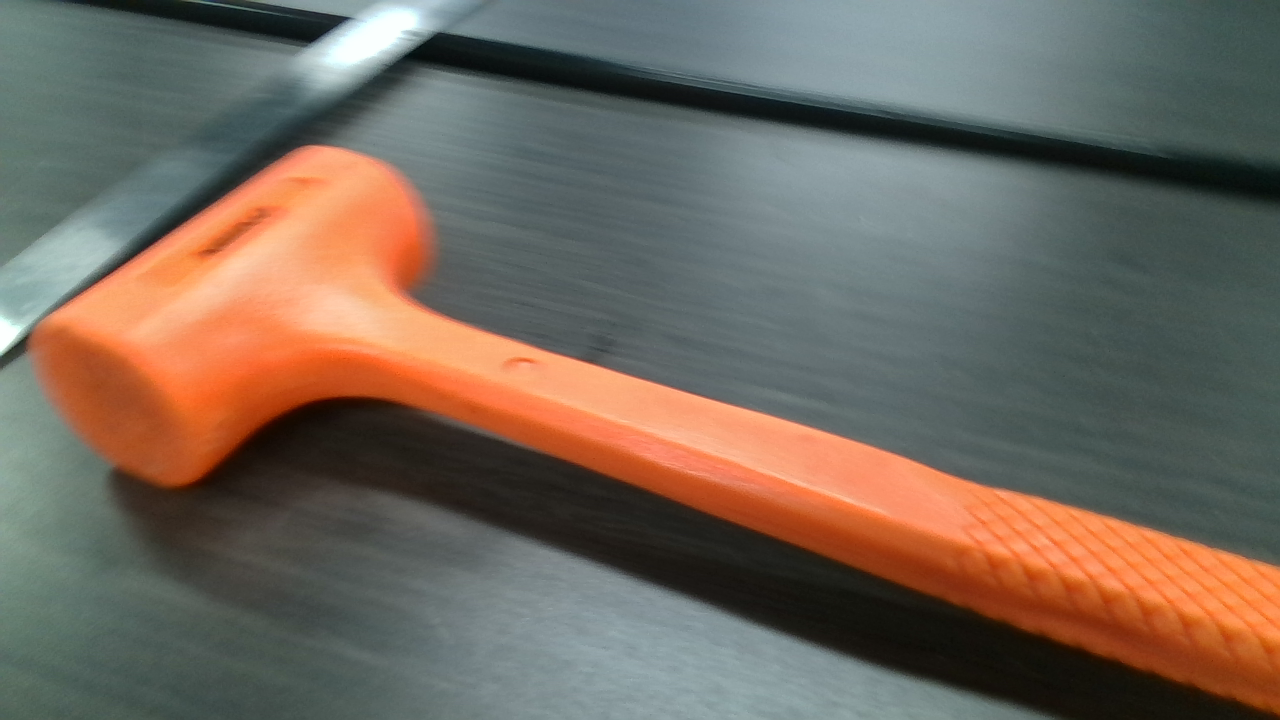Orange Hammer: (30, 140, 1280, 720)
